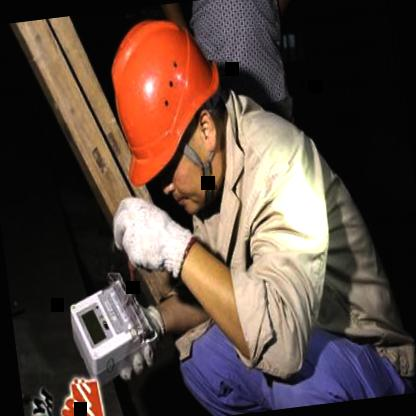helmet: (89, 0, 248, 223)
